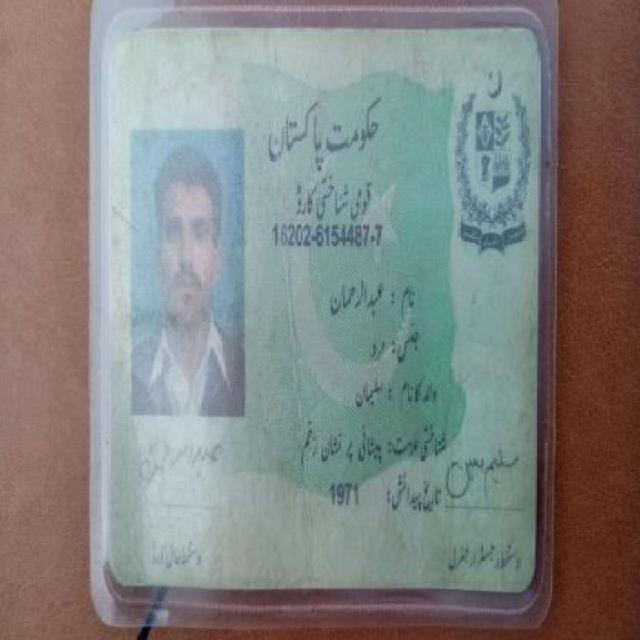Front: (100, 24, 545, 602)
